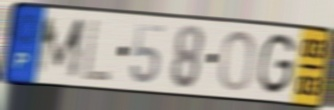5: (129, 21, 167, 86)
8: (170, 23, 206, 91)
G: (256, 31, 298, 97)
L: (80, 17, 114, 84)
M: (33, 16, 87, 80)
O: (217, 28, 258, 93)
